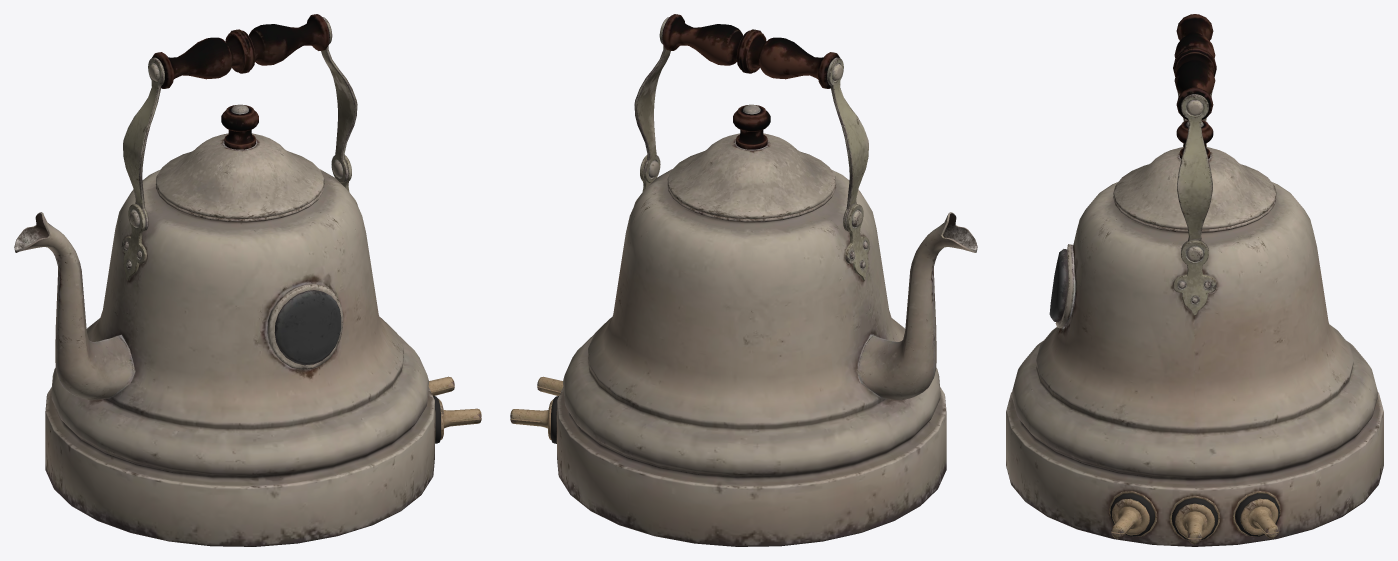
File: vintage_electric_kettle.glb
3 renders of one model, left to right at view 1: azimuth 30°, elevation 25°; view 2: azimuth 150°, elevation 25°; view 3: azimuth 270°, elevation 25°, orthographic. The views are drawn at different scales.
Parts seen in each view (by area): view 1: vintage_electric_kettle; view 2: vintage_electric_kettle; view 3: vintage_electric_kettle.
Part boxes in pixels (bbox=[...]): vintage_electric_kettle: bbox=[14, 14, 481, 546]; vintage_electric_kettle: bbox=[510, 14, 977, 546]; vintage_electric_kettle: bbox=[1006, 14, 1383, 546].
Size of the model in its own units: 0.3209 by 0.3048 by 0.2486.
Materials: 2 (2 with a texture image).
